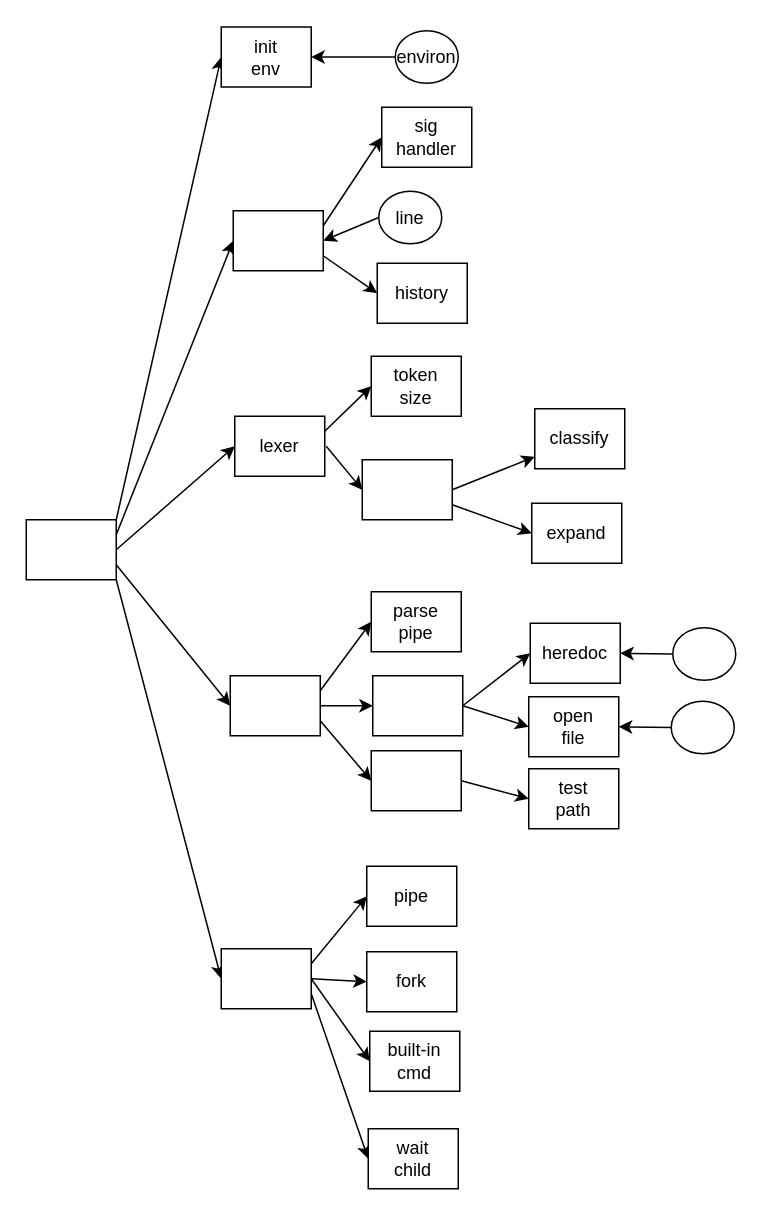
Some shapes in this 762 by 1215 pixel diagram are drawn without their labels. The centre of each missing label's shape, as x and y in pixels:
exec: (x=265, y=978)
file: (x=702, y=727)
get token: (x=406, y=489)
lines: (x=703, y=653)
main: (x=70, y=549)
parse arg: (x=415, y=780)
parse redirect: (x=417, y=705)
parser: (x=274, y=705)
readline: (x=277, y=240)
